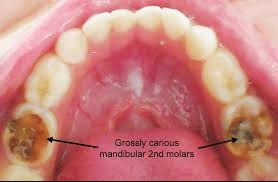UL1BC_healthy: (208, 53, 248, 99)
UL1M_decay: (222, 100, 274, 154)
ULCI_healthy: (138, 6, 162, 35)
ULC_healthy: (187, 25, 217, 61)
ULLI_healthy: (162, 8, 189, 41)
UR1BC_decay: (25, 58, 72, 104)
UR2BC_decay: (5, 107, 55, 164)
URCI_healthy: (112, 8, 137, 36)
URC_healthy: (56, 28, 88, 65)
URLI_healthy: (83, 12, 113, 44)
